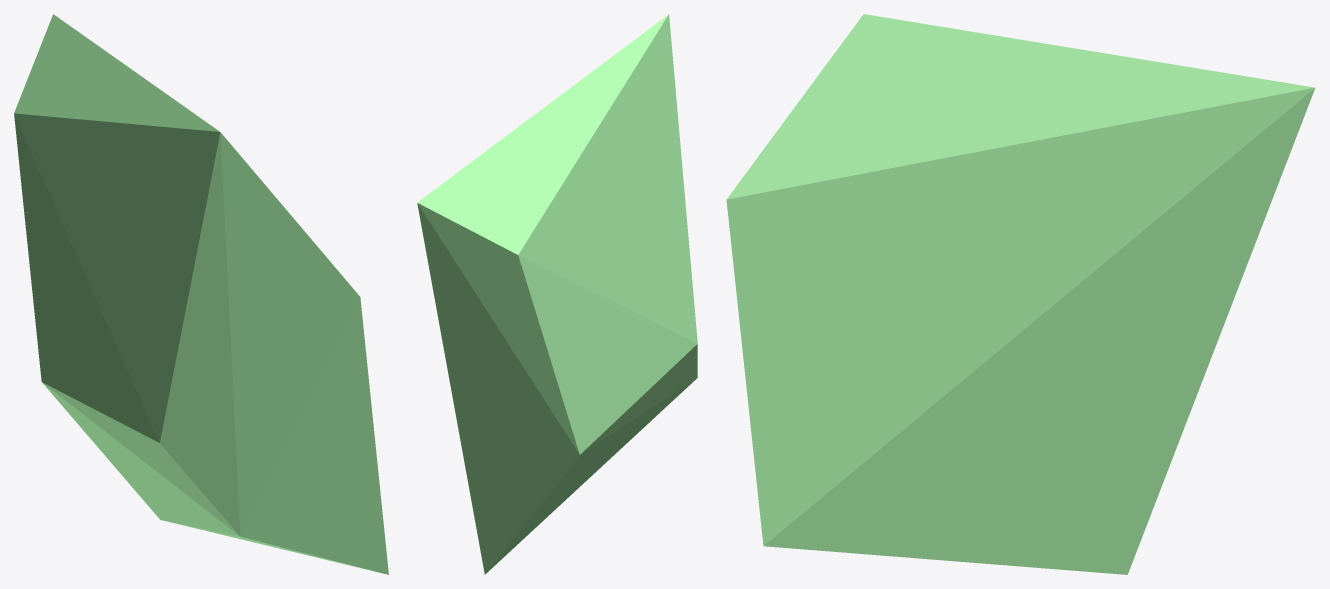
File: dvkr_robot_L3_respondable_ECM_coll_9.dae
The picture shows the model from 3 angles, left to right: view 1: azimuth 30°, elevation 25°; view 2: azimuth 150°, elevation 25°; view 3: azimuth 270°, elevation 25°; orthographic projection. The views are drawn at different scales.
Visible parts, largest first — view 1: Node_0000023514CD6E10; view 2: Node_0000023514CD6E10; view 3: Node_0000023514CD6E10.
Boxes of the visible parts, left/top/right/bottom form: Node_0000023514CD6E10: left=14, top=14, right=388, bottom=574; Node_0000023514CD6E10: left=417, top=14, right=697, bottom=574; Node_0000023514CD6E10: left=726, top=14, right=1315, bottom=574.
Size of the model in its own units: 0.00915 by 0.0259 by 0.0262.
